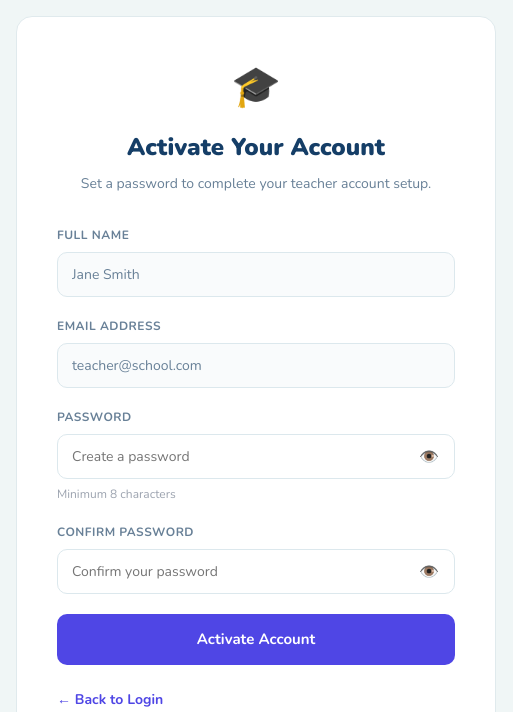
Scenario: AcceptInvitation page › successful activation shows success screen
Expected: the heading "Activate Your Account" is shown, [127,131,385,163]
Type "SecurePass123!" into the password field labelled "Create a password" at (256, 456), box [57,434,455,479]
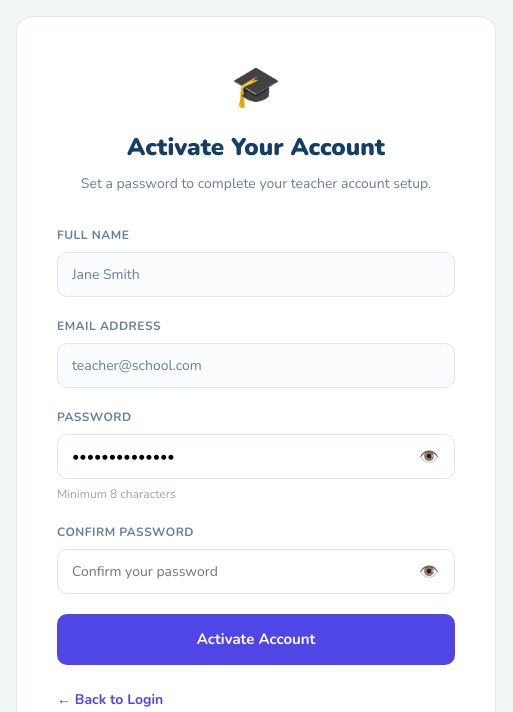
Type "SecurePass123!" into the password field named "Confirm password" at (256, 572), box [57,549,455,594]
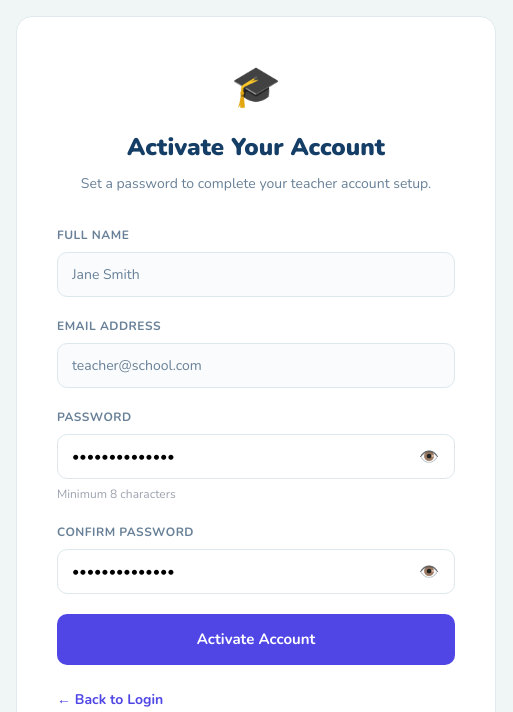
Click the button "Activate Account" at (256, 639), box [57,614,455,664]
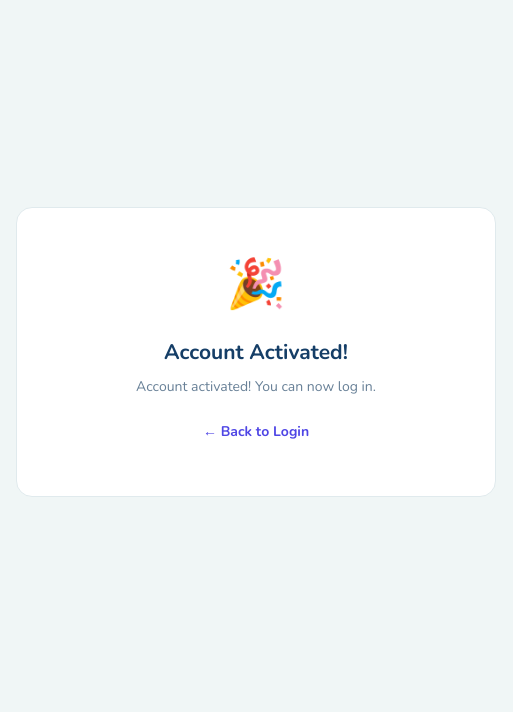
Expected: the heading "Account Activated!" is shown, [164,338,348,366]
Expected: the text "Account activated! You can now log in." is shown, [136,378,376,396]
